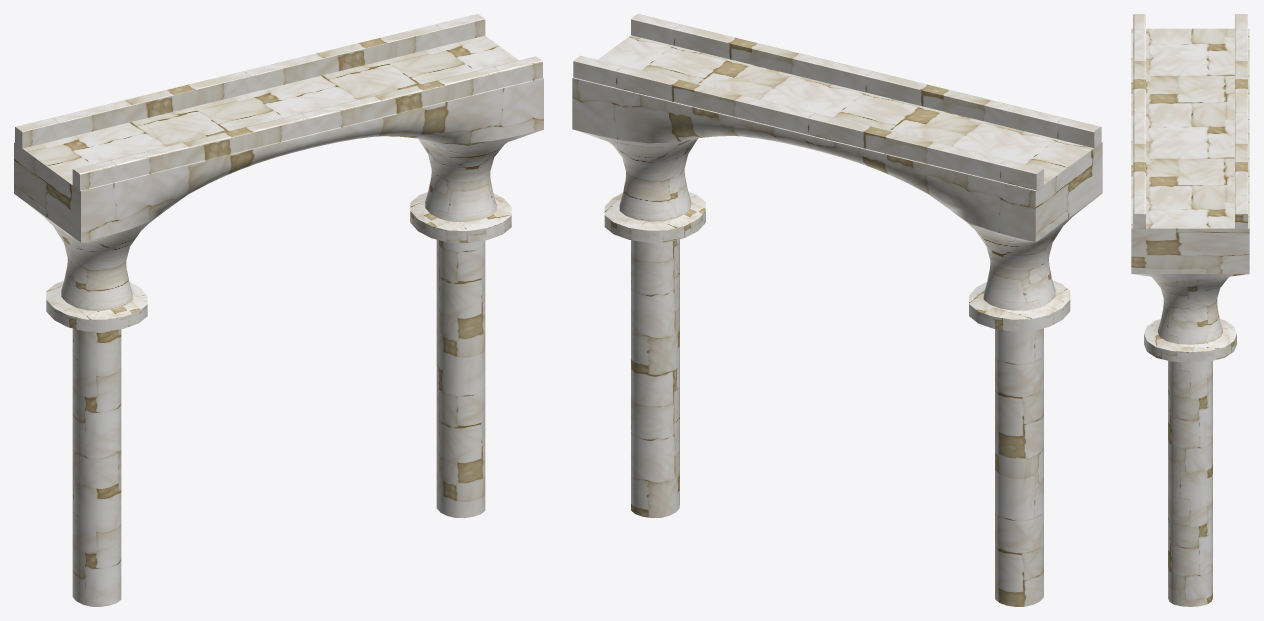
The model's file is StoneBridge.fbx.
3 views of the same model, side by side, from view 1: azimuth 30°, elevation 25°; view 2: azimuth 150°, elevation 25°; view 3: azimuth 270°, elevation 25° (orthographic). The views are drawn at different scales.
Parts seen in each view (by area): view 1: Cube.001; view 2: Cube.001; view 3: Cube.001.
Part boxes in pixels (x1,y1,x2,y2): Cube.001: (14, 14, 543, 606); Cube.001: (572, 14, 1102, 606); Cube.001: (1131, 14, 1249, 606).
Size of the model in its own units: 20 by 18.9 by 5.
